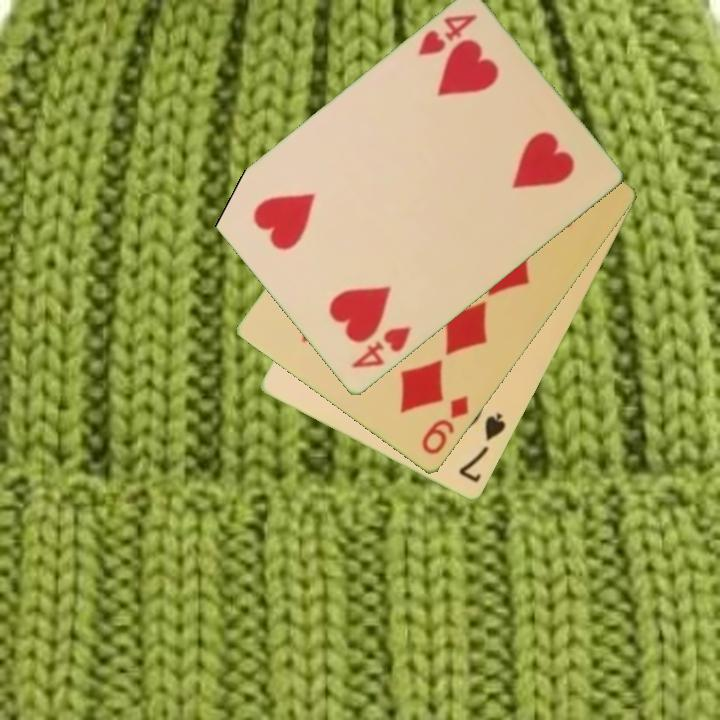4h: (348, 323, 414, 372), (414, 11, 480, 60)
7s: (455, 410, 509, 486)
9d: (418, 392, 472, 458)
